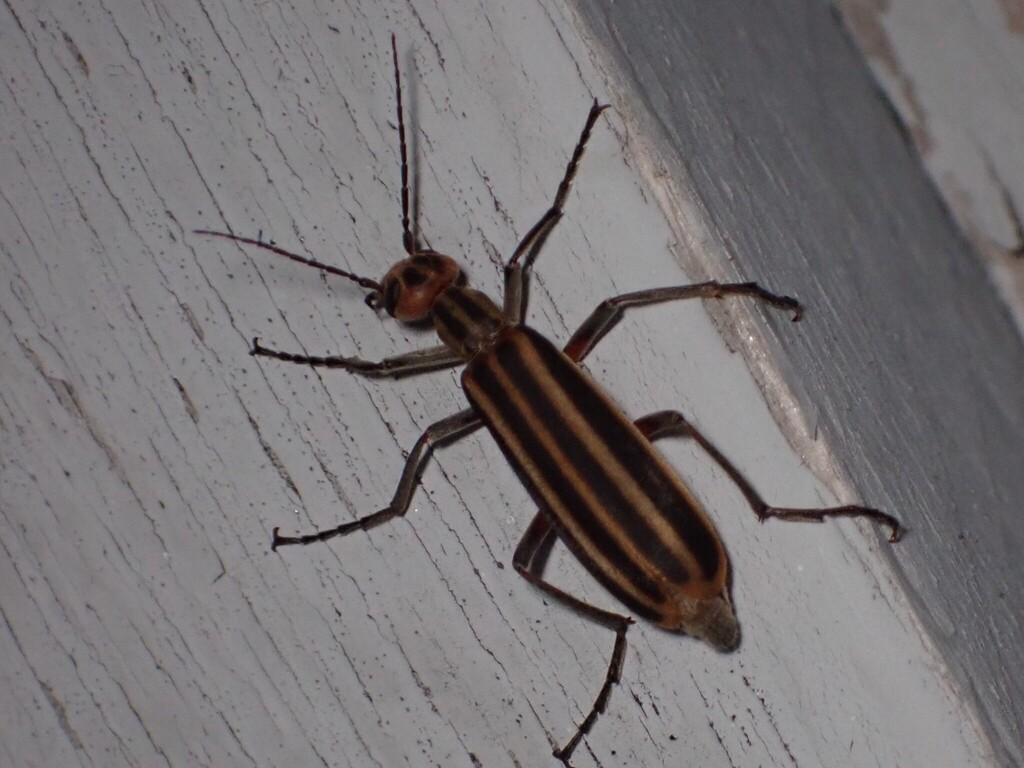blister_beetle: (156, 7, 929, 768)
